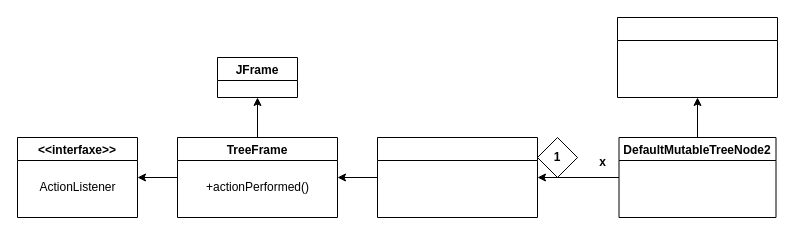
Some shapes in this 795 by 235 pixel diagram are drawn without their labels. The centre of each missing label's shape, as x and y in pixels:
"DefaultMutableTreeNode" belongs at point 697,57.
"LifeTree" belongs at point 457,177.
